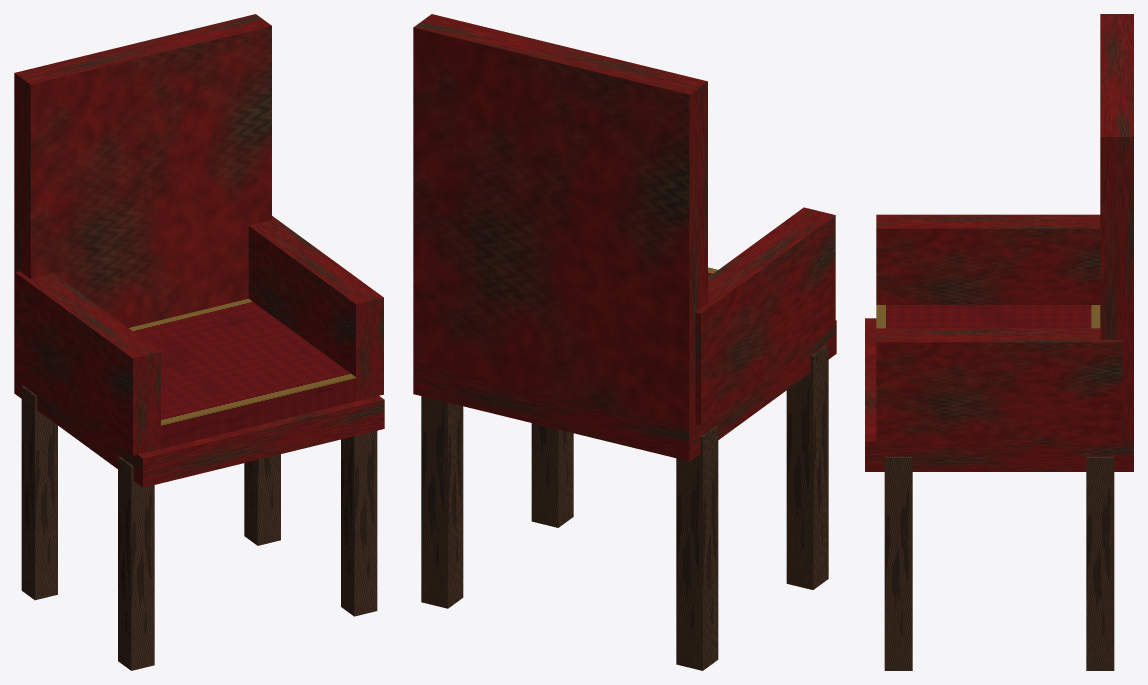
Rendered from armchair.glb.
3 renders of one model, left to right at view 1: azimuth 30°, elevation 25°; view 2: azimuth 150°, elevation 25°; view 3: azimuth 270°, elevation 25°, orthographic. The views are drawn at different scales.
Parts seen in each view (by area): view 1: Back, Cushion, Arm_-24, Arm_24, Seat, LegR_-24_18, Leg_-24_18, LegR_24_18, Leg_24_18; view 2: Back, Arm_-24, Seat, Leg_-24_18, LegR_-24_18, Leg_24_18, LegR_24_18; view 3: Arm_24, Arm_-24, Back, Seat, Leg_24_18, LegR_24_18, Cushion.
Part boxes in pixels (x1,y1,x2,y2): Back: (14,14,271,364); Cushion: (129,298,355,448); Arm_-24: (15,271,160,455); Arm_24: (248,216,383,401); Seat: (14,364,384,487); LegR_-24_18: (118,456,154,670); Leg_-24_18: (21,386,57,600); LegR_24_18: (341,431,377,616); Leg_24_18: (244,454,280,545); Back: (413,14,707,427); Arm_-24: (695,207,835,424); Seat: (413,320,836,461); Leg_-24_18: (676,426,718,670); LegR_-24_18: (786,345,828,589); Leg_24_18: (421,396,463,608); LegR_24_18: (531,423,573,527); Arm_24: (876,328,1122,443); Arm_-24: (876,214,1100,304); Back: (1100,14,1133,441); Seat: (865,318,1133,471); Leg_24_18: (1086,456,1114,670); LegR_24_18: (884,456,912,670); Cushion: (876,305,1100,328).
Size of what is drawn, in the model's own units: 0.54 by 1.05 by 0.48.
Materials: 3 (3 with a texture image).
